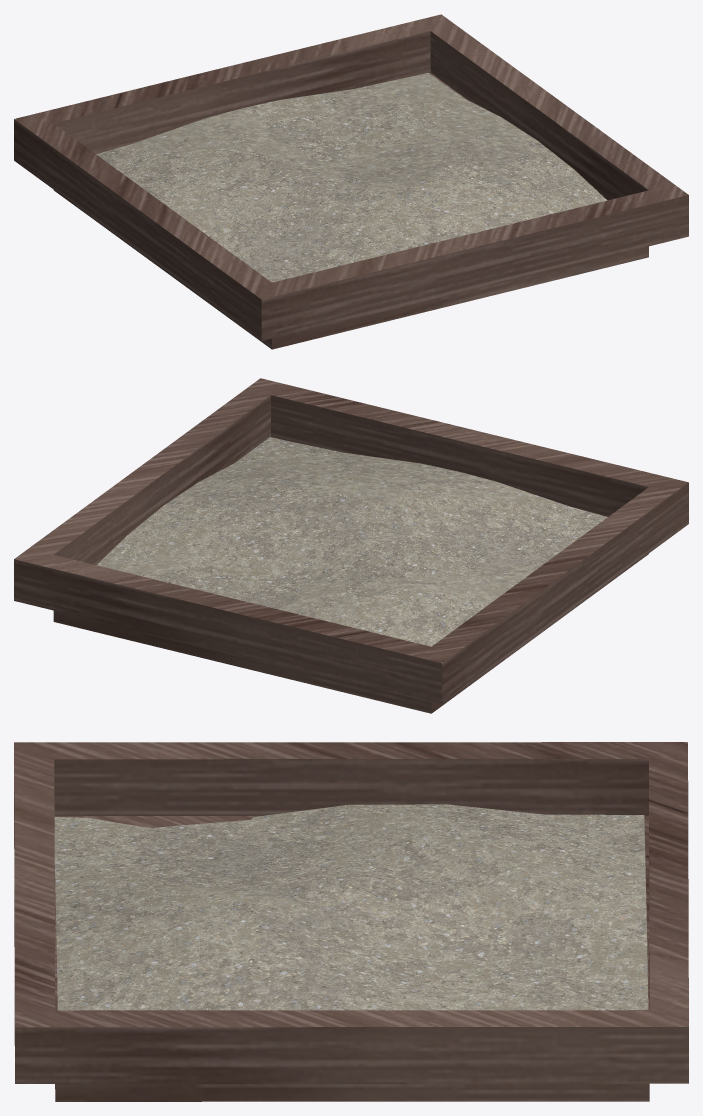
The model's file is Arenero.obj.
The picture shows the model from 3 angles, top to bottom: view 1: azimuth 30°, elevation 25°; view 2: azimuth 150°, elevation 25°; view 3: azimuth 270°, elevation 25°; orthographic projection. The views are drawn at different scales.
Parts seen in each view (by area): view 1: Cube.004, Plane.001; view 2: Cube.004, Plane.001; view 3: Cube.004, Plane.001.
Boxes of the visible parts, x1=… form: Cube.004: x1=14, y1=14, x2=688, y2=349; Plane.001: x1=96, y1=73, x2=607, y2=282; Cube.004: x1=14, y1=378, x2=688, y2=713; Plane.001: x1=96, y1=437, x2=607, y2=646; Cube.004: x1=14, y1=742, x2=688, y2=1101; Plane.001: x1=54, y1=804, x2=648, y2=1010.
Bounding box in the file's own units: 4.46 × 0.666 × 4.46.
Materials: 2 (2 with a texture image).
